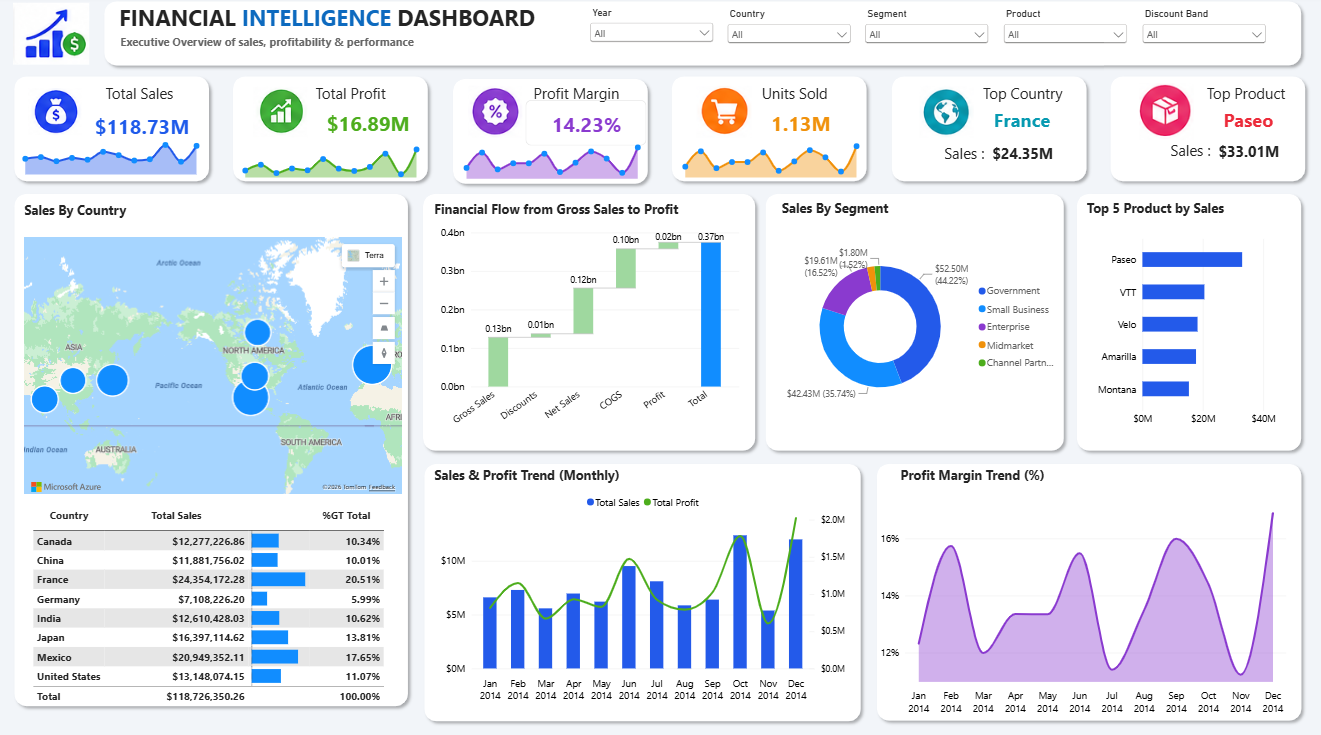

What the dashboard file says about the page in this screenshot:
{"tool":"powerbi","page":{"name":"Page 1","canvas":[1920,1080],"ordinal":0},"visuals":[{"type":"shape","box":[145,0,1751,111],"z":0},{"type":"image","box":[21.7,7.2,110.4,97.7],"z":1000},{"type":"textbox","box":[175,10,662,61],"z":2000},{"type":"textbox","box":[177,56,631,30],"z":3000},{"type":"slicer","fields":{"Values":["Calendar.Year"]},"box":[852,17,188,80],"z":4000},{"type":"slicer","fields":{"Values":["financials.Country"]},"box":[1052.2,17.2,188,80],"z":5000},{"type":"slicer","fields":{"Values":["financials.Segment"]},"box":[1251.1,17.2,188,80],"z":6000},{"type":"slicer","fields":{"Values":["financials.Product"]},"box":[1452.2,17.2,188.2,80],"z":7000},{"type":"slicer","fields":{"Values":["financials.Discount Band"]},"box":[1652.2,17.2,188,80],"z":8000},{"type":"shape","box":[14,108,300,170],"z":9000},{"type":"shape","box":[331.5,109.2,300,170],"z":10000},{"type":"shape","box":[649,111.5,300,170],"z":11000},{"type":"shape","box":[966.5,109.2,300,170],"z":12000},{"type":"shape","box":[1284,109.2,300,170],"z":13000},{"type":"shape","box":[1601.5,109.2,300,170],"z":14000},{"type":"textbox","box":[155,127,108,39],"z":15000},{"type":"textbox","box":[460,127,141,39],"z":16000},{"type":"cardVisual","fields":{"Data":["Measure.Total Sales"]},"box":[121,155,175,66],"z":17000},{"type":"textbox","box":[760.1,127,159.3,39.8],"z":18000},{"type":"textbox","box":[1105,127,108,39],"z":19000},{"type":"textbox","box":[1425.5,127.3,139.1,39.1],"z":20000},{"type":"textbox","box":[1749.9,126.7,126.7,39.8],"z":21000},{"type":"image","box":[43,127,79,85],"z":22000},{"type":"image","box":[1333.7,127,79,85],"z":23000},{"type":"image","box":[1011.6,127,79,85],"z":24000},{"type":"image","box":[680.4,127,79,85],"z":25000},{"type":"image","box":[369.2,127,79,85],"z":26000},{"type":"image","box":[1652.2,127,79,85],"z":27000},{"type":"cardVisual","fields":{"Data":["Measure.Total Profit1"]},"box":[448,152,175,66],"z":28000},{"type":"cardVisual","fields":{"Data":["Measure.Profit Margin %"]},"box":[763,152,175,66],"z":29000},{"type":"cardVisual","fields":{"Data":["Measure.Units Solds"]},"box":[1074.9,152,175,66],"z":30000},{"type":"cardVisual","fields":{"Data":["Measure.Top Country"]},"box":[1395.2,146.6,175,66],"z":31000},{"type":"cardVisual","fields":{"Data":["Measure.Top Product"]},"box":[1722.8,146.6,175,66],"z":32000},{"type":"areaChart","fields":{"Category":["Calendar.Date"],"Y":["Measure.Total Sales"]},"box":[14,185,298,92],"z":33000},{"type":"areaChart","fields":{"Category":["Calendar.Date"],"Y":["Measure.Total Profit"]},"box":[333.4,187.3,298,92],"z":34000},{"type":"areaChart","fields":{"Category":["Calendar.Date"],"Y":["Measure.Profit Margin %"]},"box":[652.5,189.4,298,92],"z":35000},{"type":"areaChart","fields":{"Category":["Calendar.Date"],"Y":["Measure.Profit Margin %"]},"box":[969.5,187.3,298,92],"z":36000},{"type":"cardVisual","fields":{"Data":["Measure.Total Sales"]},"box":[1396,196,176,66],"z":37000},{"type":"textbox","box":[1370.6,213.8,123.8,48.8],"z":38000},{"type":"cardVisual","fields":{"Data":["Measure.Total Sales"]},"box":[1722.5,193.8,176,66],"z":39000},{"type":"textbox","box":[1697.3,210.7,87.3,31.3],"z":40000},{"type":"shape","box":[14,279,588,760],"z":41000},{"type":"shape","box":[606,279,499,390],"z":42000},{"type":"shape","box":[1102,279,450,390],"z":43000},{"type":"shape","box":[1552,279,343,390],"z":44000},{"type":"shape","box":[608,670,650,391],"z":45000},{"type":"shape","box":[1263,670,633,390],"z":46000},{"type":"textbox","box":[38,298,479,41],"z":47000},{"type":"azureMap","fields":{"Category":["financials.Country"],"Size":["Measure.Total Sales"]},"box":[21.7,337,579,402],"z":48000},{"type":"tableEx","fields":{"Values":["financials.Country","Measure.Total Sales","Sum(financials. Sales)","Divide(Measure.Total Sales, ScopedEval(Measure.Total Sales, []))"]},"box":[35,724,541,335],"z":49000},{"type":"waterfallChart","fields":{"Category":["Financial Flow.Stage"],"Y":["Financial Flow.Financial Flow Value"]},"box":[624,319,465,336],"z":50000},{"type":"textbox","box":[631.6,296.8,479,41],"z":51000},{"type":"textbox","box":[1134.7,295,479,41],"z":52000},{"type":"donutChart","fields":{"Category":["financials.Segment"],"Y":["Measure.Total Sales"]},"box":[1121,317,436,328],"z":53000},{"type":"textbox","box":[1576.2,295,309.5,41.6],"z":54000},{"type":"barChart","fields":{"Category":["financials.Product"],"Y":["Measure.Total Sales"]},"box":[1570.8,331.2,295,313.1],"z":55000},{"type":"textbox","box":[630.9,682.7,479,41],"z":56000},{"type":"lineClusteredColumnComboChart","fields":{"Category":["Calendar.Month Year"],"Y":["Measure.Total Sales"],"Y2":["Measure.Total Profit"]},"box":[624.3,704,622,338],"z":57000},{"type":"textbox","box":[1306,682,479,41],"z":58000},{"type":"areaChart","fields":{"Category":["Calendar.Month Year"],"Y":["Measure.Profit Margin %"]},"box":[1261.8,722.5,622,338],"z":59000}]}

Visuals, with their boxes in screenshot pixels (x1, y1, x2, y2), scaled from the page's 1920x1080 canvas onto the 1321x735 screenshot:
shape: 100 0 1304 76
image: 15 5 91 71
textbox: 120 7 576 48
textbox: 122 38 556 59
slicer - Calendar.Year: 586 12 716 66
slicer - financials.Country: 724 12 853 66
slicer - financials.Segment: 861 12 990 66
slicer - financials.Product: 999 12 1129 66
slicer - financials.Discount Band: 1137 12 1266 66
shape: 10 74 216 189
shape: 228 74 434 190
shape: 447 76 653 192
shape: 665 74 871 190
shape: 883 74 1090 190
shape: 1102 74 1308 190
textbox: 107 86 181 113
textbox: 316 86 414 113
cardVisual - Measure.Total Sales: 83 105 204 150
textbox: 523 86 633 114
textbox: 760 86 835 113
textbox: 981 87 1076 113
textbox: 1204 86 1291 113
image: 30 86 84 144
image: 918 86 972 144
image: 696 86 750 144
image: 468 86 522 144
image: 254 86 308 144
image: 1137 86 1191 144
cardVisual - Measure.Total Profit1: 308 103 429 148
cardVisual - Measure.Profit Margin %: 525 103 645 148
cardVisual - Measure.Units Solds: 740 103 860 148
cardVisual - Measure.Top Country: 960 100 1080 145
cardVisual - Measure.Top Product: 1185 100 1306 145
areaChart - Calendar.Date x Measure.Total Sales: 10 126 215 189
areaChart - Calendar.Date x Measure.Total Profit: 229 127 434 190
areaChart - Calendar.Date x Measure.Profit Margin %: 449 129 654 192
areaChart - Calendar.Date x Measure.Profit Margin %: 667 127 872 190
cardVisual - Measure.Total Sales: 960 133 1082 178
textbox: 943 146 1028 179
cardVisual - Measure.Total Sales: 1185 132 1306 177
textbox: 1168 143 1228 165
shape: 10 190 414 707
shape: 417 190 760 455
shape: 758 190 1068 455
shape: 1068 190 1304 455
shape: 418 456 866 722
shape: 869 456 1304 721
textbox: 26 203 356 231
azureMap - financials.Country x Measure.Total Sales: 15 229 413 503
tableEx - financials.Country x Measure.Total Sales: 24 493 396 721
waterfallChart - Financial Flow.Stage x Financial Flow.Financial Flow Value: 429 217 749 446
textbox: 435 202 764 230
textbox: 781 201 1110 229
donutChart - financials.Segment x Measure.Total Sales: 771 216 1071 439
textbox: 1084 201 1297 229
barChart - financials.Product x Measure.Total Sales: 1081 225 1284 438
textbox: 434 465 764 493
lineClusteredColumnComboChart - Calendar.Month Year x Measure.Total Sales: 430 479 857 709
textbox: 899 464 1228 492
areaChart - Calendar.Month Year x Measure.Profit Margin %: 868 492 1296 722
